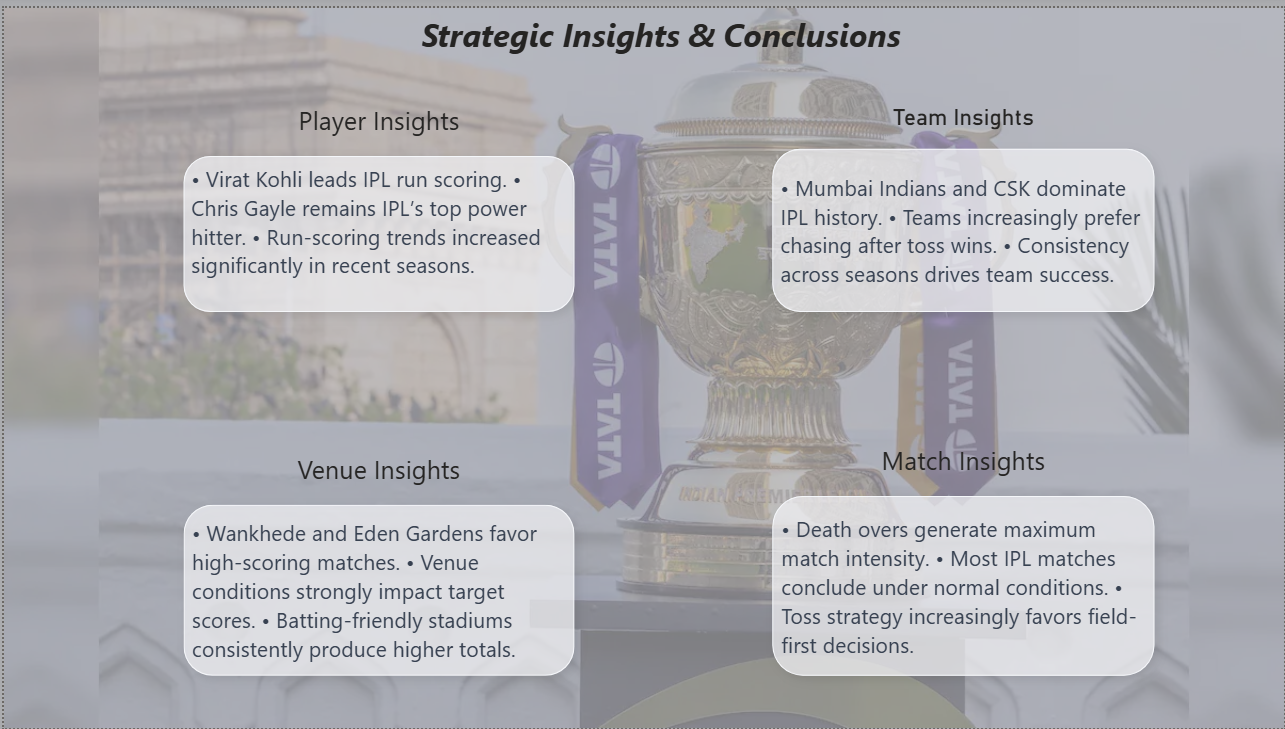

This screenshot's page, from the dashboard's own definition file:
{"tool":"powerbi","page":{"name":"Strategic Insights & Conclusions","canvas":[1280,720],"ordinal":5},"visuals":[{"type":"textbox","box":[412.5,0,556.2,61.2],"z":0},{"type":"shape","title":"Team Insights","box":[753.8,95,411.2,223.8],"z":3000},{"type":"shape","title":"Player Insights","box":[165,95,420,223.8],"z":6500},{"type":"shape","title":"Venue Insights","box":[165,443.8,420,238.8],"z":7000},{"type":"shape","title":"Match Insights","box":[753.8,435,411.2,247.5],"z":7500}]}

Visuals, with their boxes in screenshot pixels (x1, y1, x2, y2), scaled from the page's 1280x720 canvas onto the 1285x729 screenshot:
textbox: box(414, 0, 972, 62)
"Team Insights" shape: box(757, 96, 1170, 323)
"Player Insights" shape: box(166, 96, 587, 323)
"Venue Insights" shape: box(166, 449, 587, 691)
"Match Insights" shape: box(757, 440, 1170, 691)
